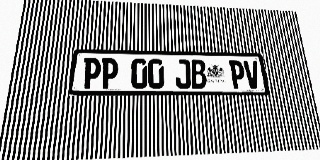0: (131, 58, 147, 89), (148, 59, 164, 89)
B: (190, 60, 207, 89)
J: (175, 59, 191, 89)
P: (82, 58, 101, 89), (100, 58, 118, 89), (229, 60, 246, 89)
V: (243, 60, 261, 89)
